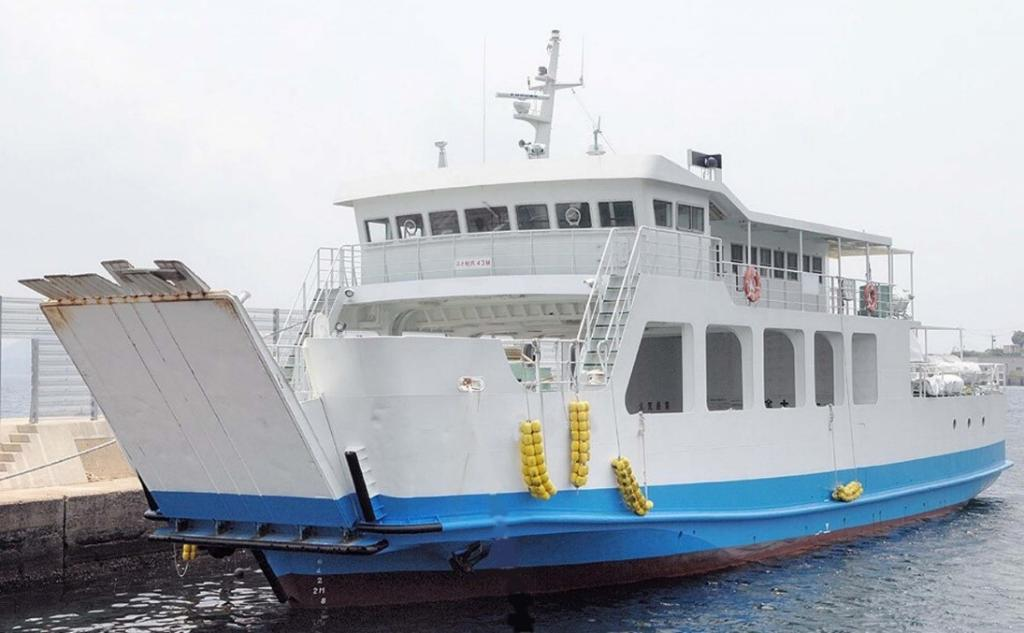PassengerShip: (15, 18, 1013, 596)
